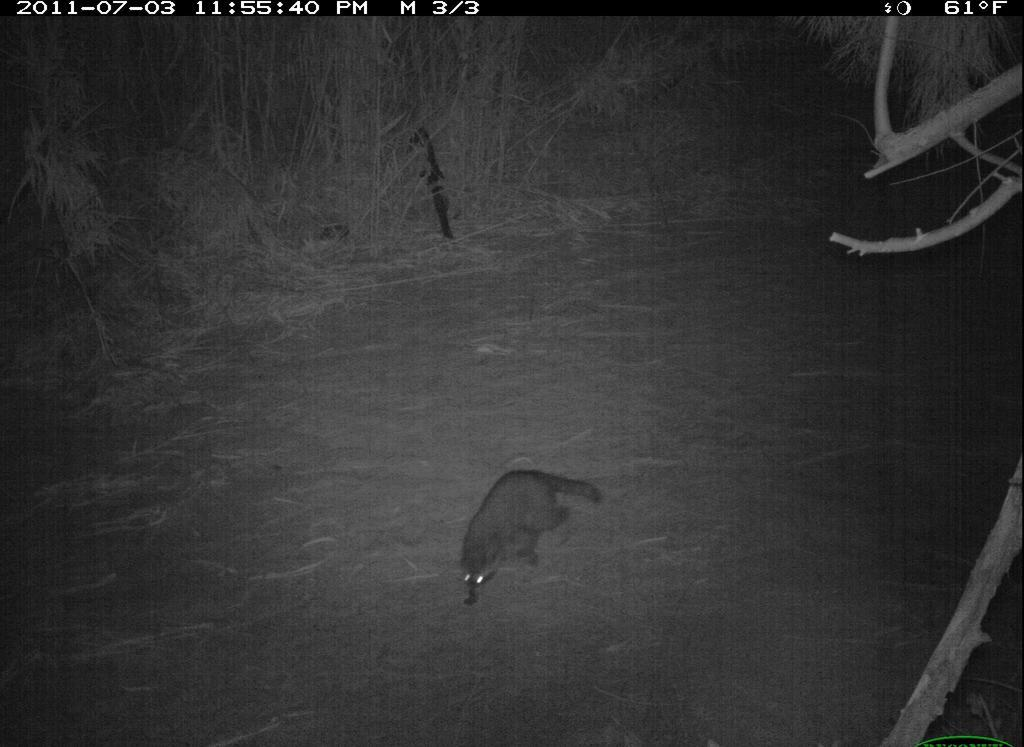raccoon: (452, 463, 614, 616)
